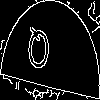Q: (25, 25, 52, 80)
